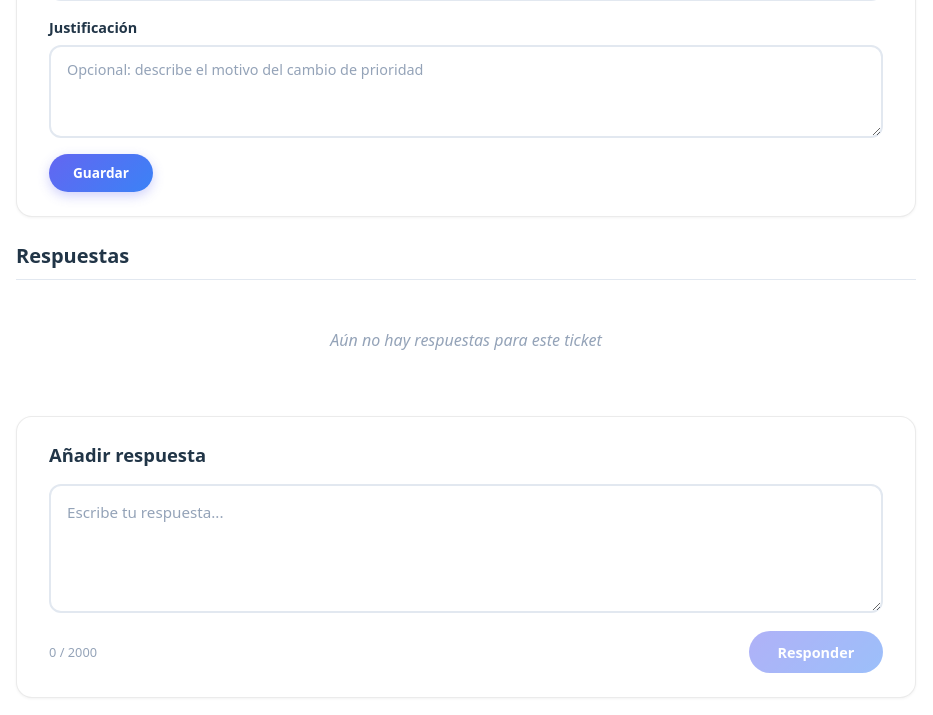
Scenario: TicketDetail — HU-3.2: Formulario de respuesta (solo ADMIN, ticket no CLOSED) › estado del botón Responder › se habilita al escribir texto en el textarea
(page scrolled)
Type "Una respuesta válida" into the text box with test id "response-textarea".
click(466, 549); type("Una respuesta válida")  # box 49,484 -> 883,614
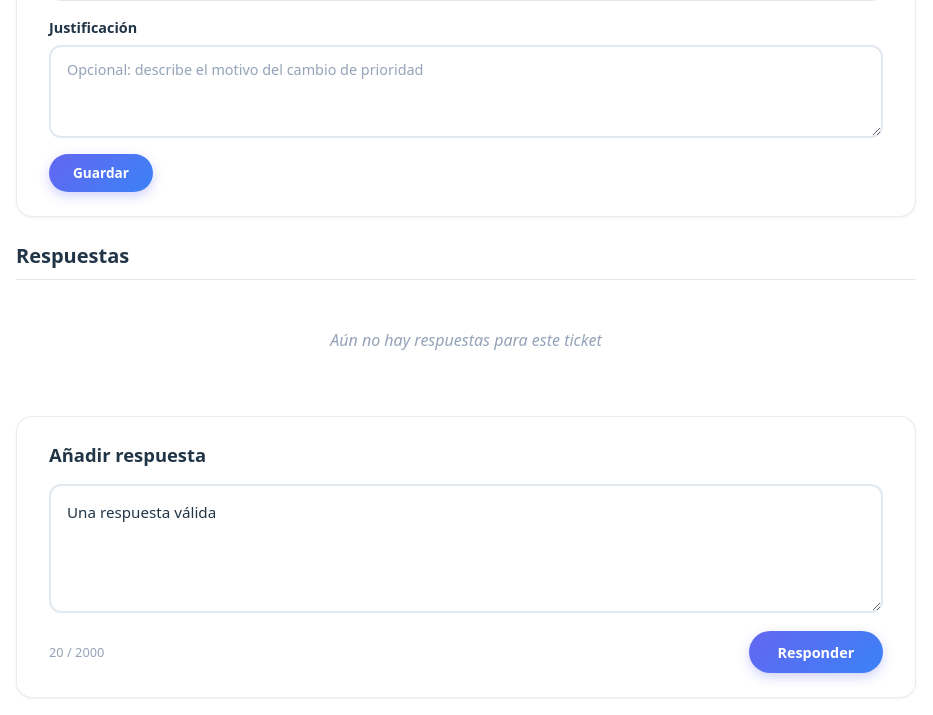
Expected: the button "Responder" is enabled, 749,632 -> 883,673
